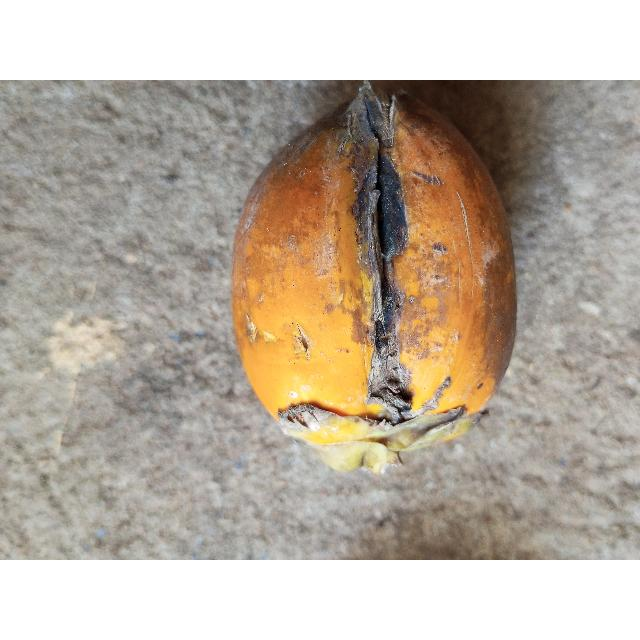damaged: (229, 81, 518, 472)
